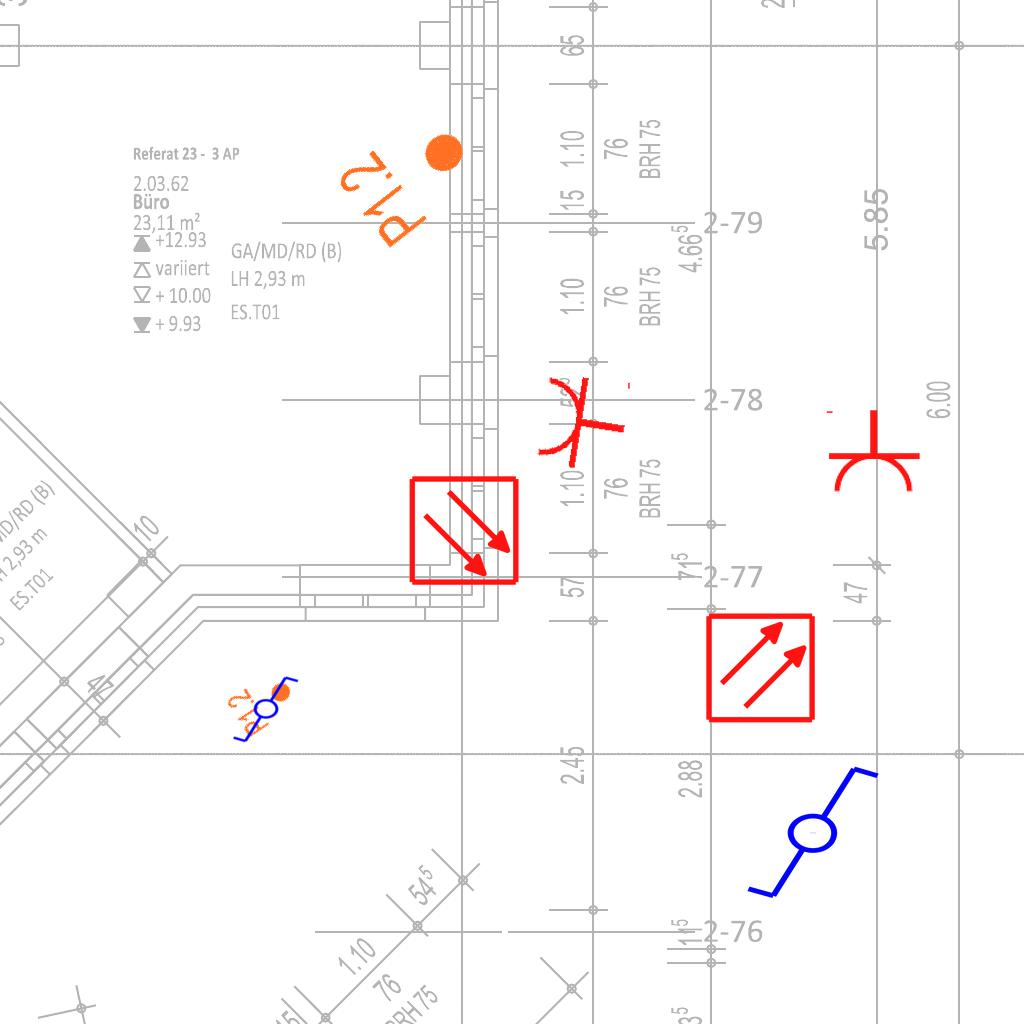Downlight_LED_Einbauleuchten_Flur: (331, 100, 490, 254), (223, 666, 303, 740)
RMO_Rauchmelder_optischer: (408, 474, 521, 587), (704, 611, 817, 724)
Schukosteckdose_einfach: (532, 364, 635, 478), (822, 408, 922, 495)
Wechselschalter: (726, 759, 883, 903), (231, 674, 309, 746)
